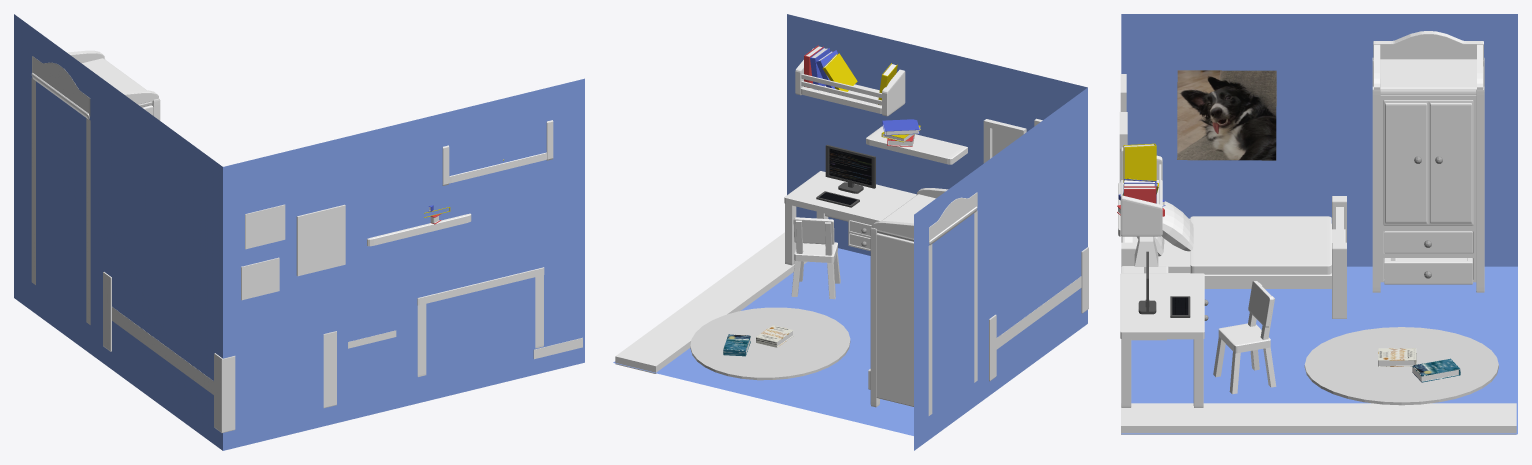
Rendered from roomv3.glb.
The picture shows the model from 3 angles, left to right: view 1: azimuth 30°, elevation 25°; view 2: azimuth 150°, elevation 25°; view 3: azimuth 270°, elevation 25°; orthographic projection. The views are drawn at different scales.
Parts seen in each view (by area): view 1: Wall, Wardrobe 1, Bed 1, Picture 1.001, Table 1, Picture 2.001, Wall bookshelf.001, Picture 3.001, Wall shelf.001; view 2: Wall, Floor, Wardrobe 1, Carpet 1, Wood floor 1, Table 1, Wall bookshelf.001, Chair 1, Bed 1, PC 1, Wall shelf.001, Book stack 2.001 (+4 smaller); view 3: Wall, Wardrobe 1, Floor, Bed 1, Wood floor 1, Carpet 1, Picture, Table 1, Chair 1, Wall bookshelf.001, Cube.008, Cube.002 (+5 smaller).
Boxes of the visible parts, <box> form: Wall: <box>14,14,584,450</box>; Wardrobe 1: <box>31,50,160,324</box>; Bed 1: <box>103,272,336,432</box>; Picture 1.001: <box>296,204,345,276</box>; Table 1: <box>417,267,544,376</box>; Picture 2.001: <box>245,204,285,249</box>; Wall bookshelf.001: <box>442,120,553,185</box>; Picture 3.001: <box>241,257,279,300</box>; Wall shelf.001: <box>367,213,471,246</box>; Wall: <box>787,14,1087,450</box>; Floor: <box>613,248,913,435</box>; Wardrobe 1: <box>868,188,977,415</box>; Carpet 1: <box>690,307,850,380</box>; Wood floor 1: <box>615,232,807,373</box>; Table 1: <box>784,171,916,265</box>; Wall bookshelf.001: <box>795,48,905,116</box>; Chair 1: <box>791,217,840,299</box>; Bed 1: <box>989,247,1088,381</box>; PC 1: <box>825,144,875,193</box>; Wall shelf.001: <box>866,126,967,164</box>; Book stack 2.001: <box>804,45,857,91</box>; Wall: <box>1121,14,1517,266</box>; Wardrobe 1: <box>1372,31,1484,292</box>; Floor: <box>1121,266,1517,434</box>; Bed 1: <box>1121,196,1346,318</box>; Wood floor 1: <box>1121,403,1516,434</box>; Carpet 1: <box>1304,327,1498,405</box>; Picture: <box>1177,70,1276,160</box>; Table 1: <box>1120,273,1208,407</box>; Chair 1: <box>1213,281,1276,394</box>; Wall bookshelf.001: <box>1120,147,1162,236</box>; Cube.008: <box>1123,143,1156,182</box>; Cube.002: <box>1412,358,1460,382</box>.
Bounding box in the file's own units: 8.03 × 6 × 8.09.
Materials: 19 (4 with a texture image).
